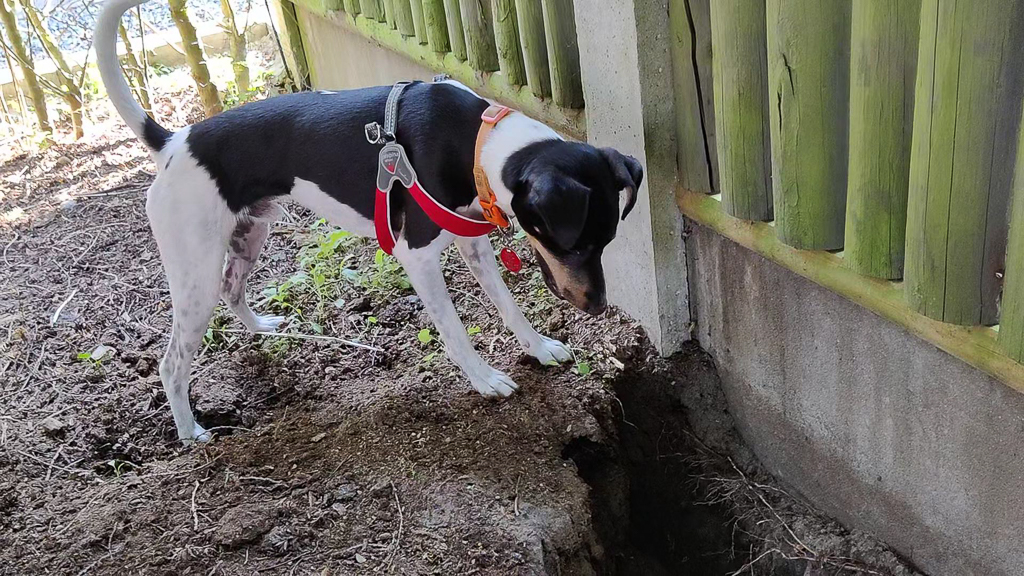Dog: (81, 0, 652, 460)
